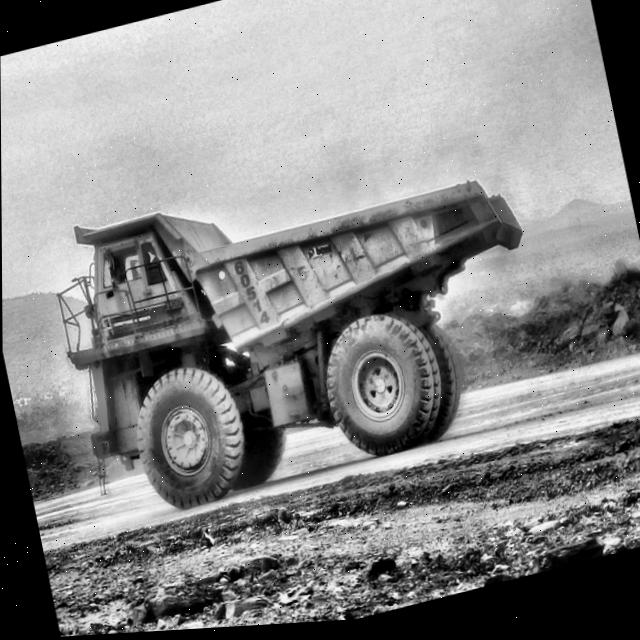dump_truck: (63, 187, 520, 509)
